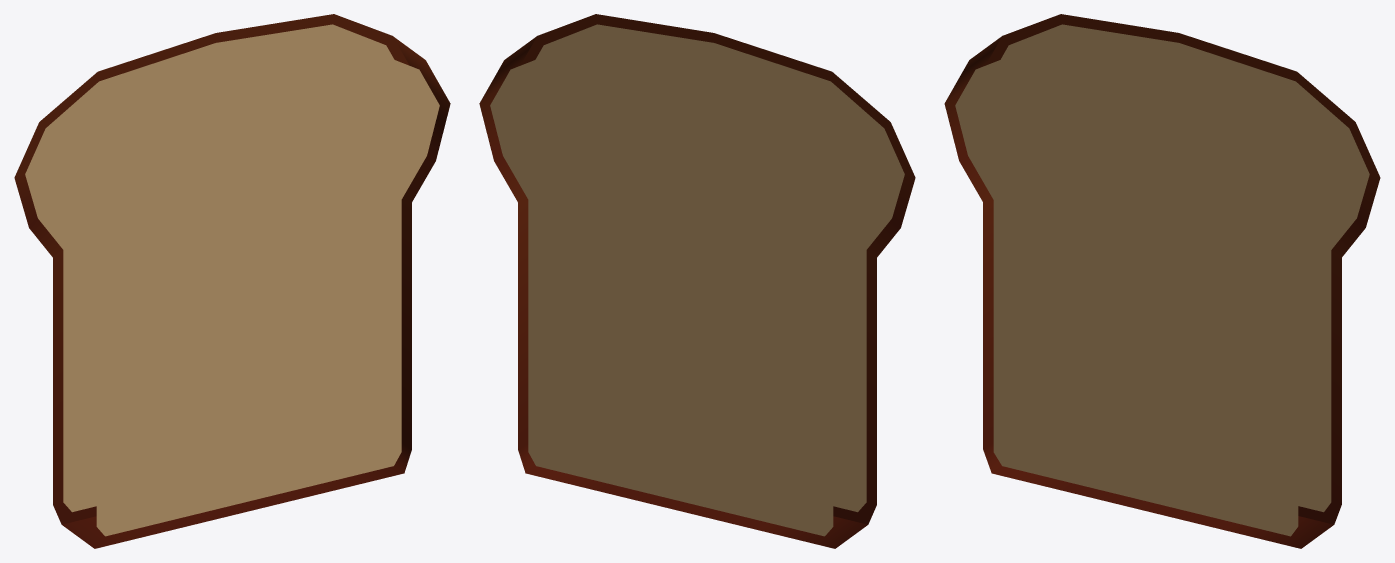
File: BreadLoaf_Slice.fbx
The picture shows the model from 3 angles, left to right: view 1: azimuth 30°, elevation 25°; view 2: azimuth 150°, elevation 25°; view 3: azimuth 330°, elevation 25°; orthographic projection.
Parts seen in each view (by area): view 1: BreadLoaf_Slice; view 2: BreadLoaf_Slice; view 3: BreadLoaf_Slice.
Boxes of the visible parts, x1,y1,x2,y2 form: BreadLoaf_Slice: [14, 14, 450, 548]; BreadLoaf_Slice: [479, 14, 915, 548]; BreadLoaf_Slice: [944, 14, 1380, 548].
Size of the model in its own units: 42.97 by 46.25 by 6.11.
